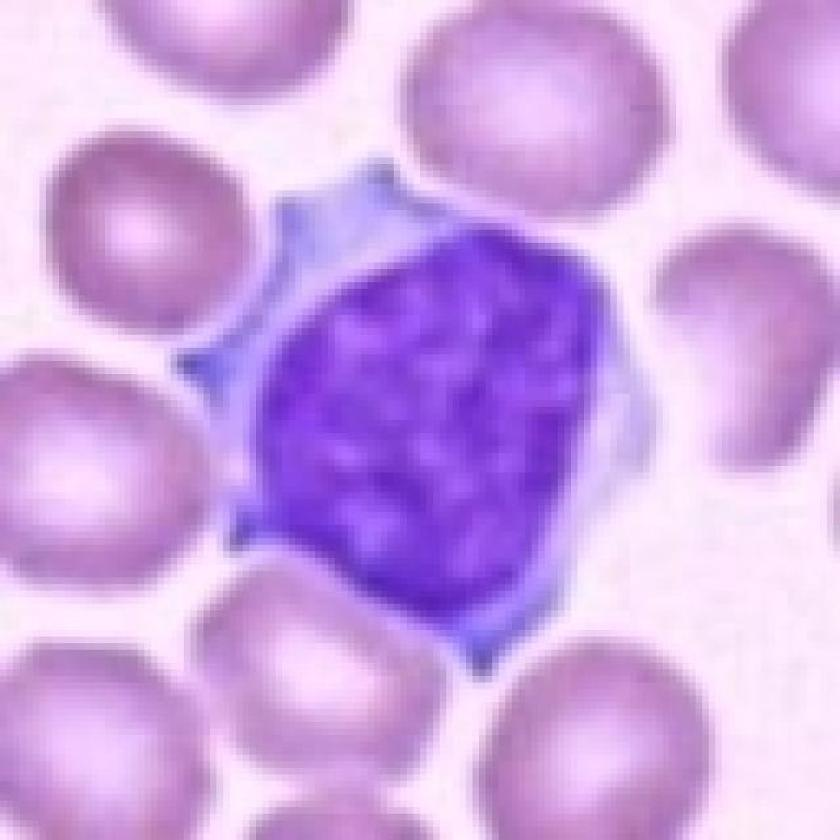lymphocyte: (172, 149, 667, 686)
